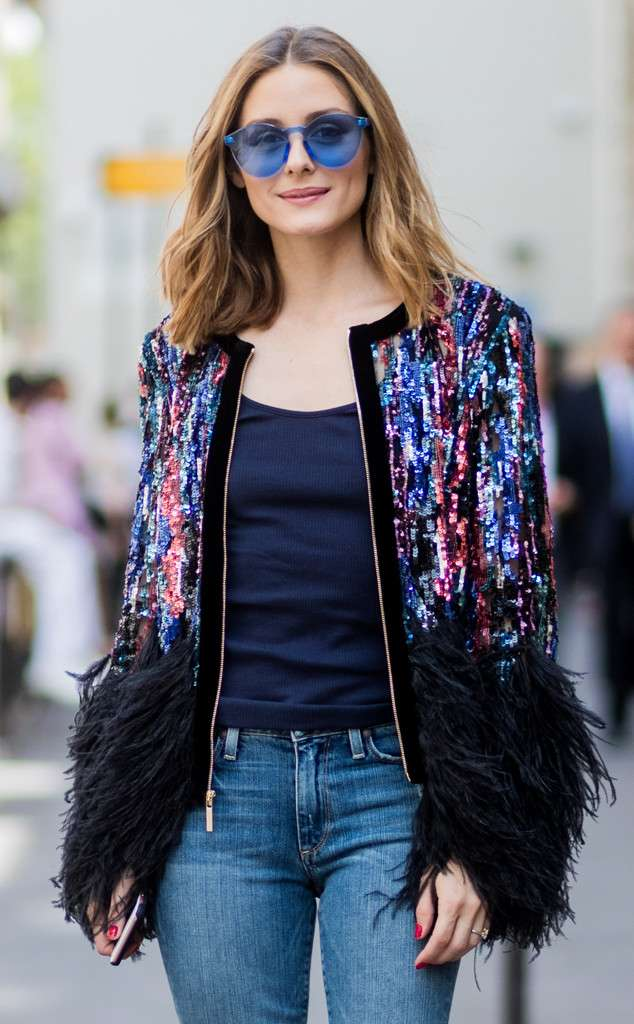jeans: (114, 692, 464, 1024)
sunglasses: (207, 117, 369, 165)
